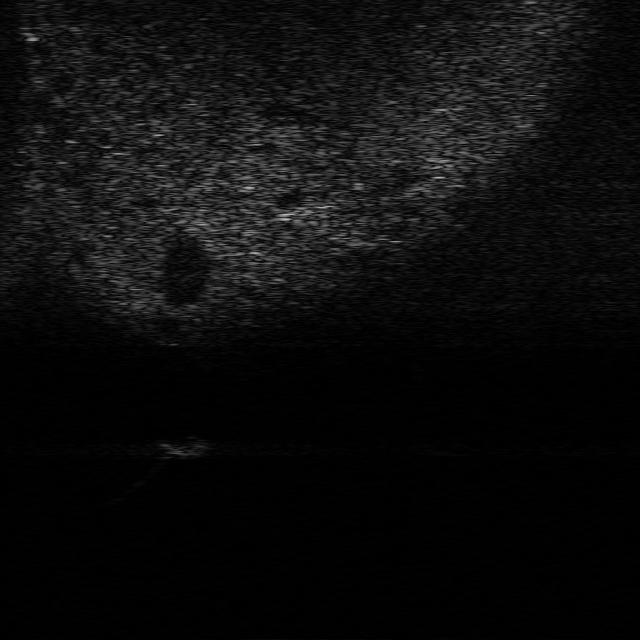cube: (156, 433, 212, 460)
